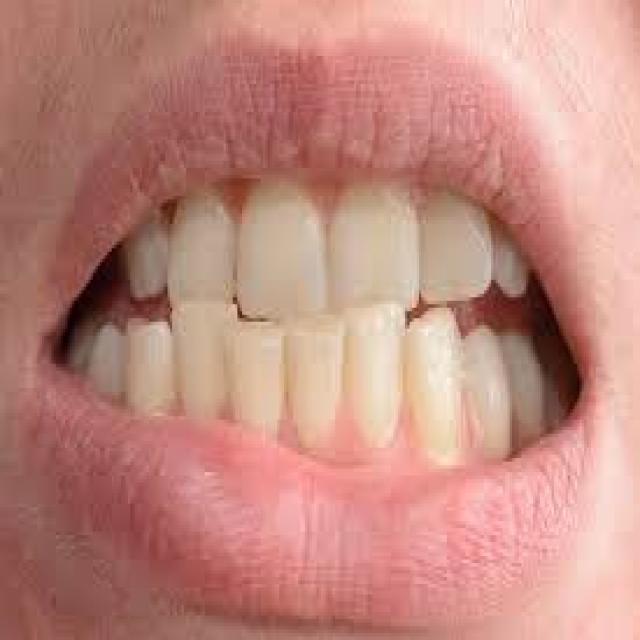tooth: (235, 182, 331, 315), (331, 168, 416, 308), (422, 185, 494, 301), (407, 315, 461, 465), (344, 314, 400, 448), (286, 325, 342, 451), (174, 196, 230, 308), (172, 308, 228, 416), (463, 325, 507, 455), (226, 308, 274, 427), (126, 315, 170, 416), (508, 328, 544, 441), (82, 318, 124, 392), (130, 224, 170, 294), (496, 238, 526, 301), (549, 378, 563, 427)
